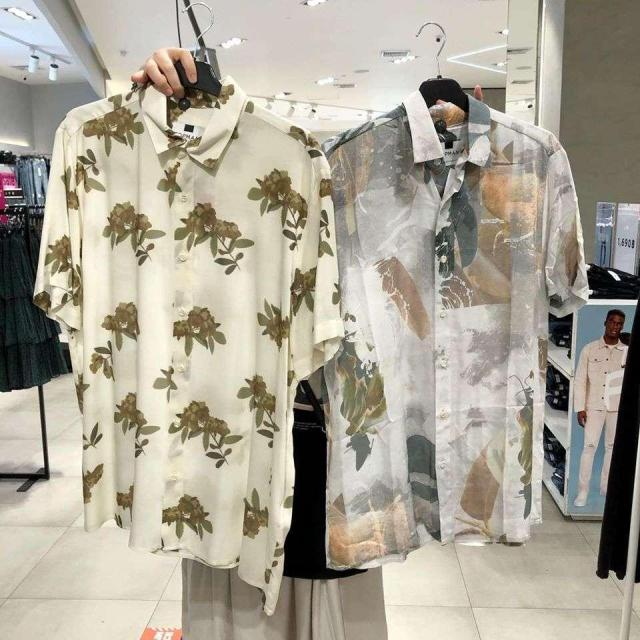shirt: (39, 83, 318, 571), (318, 100, 568, 551)
